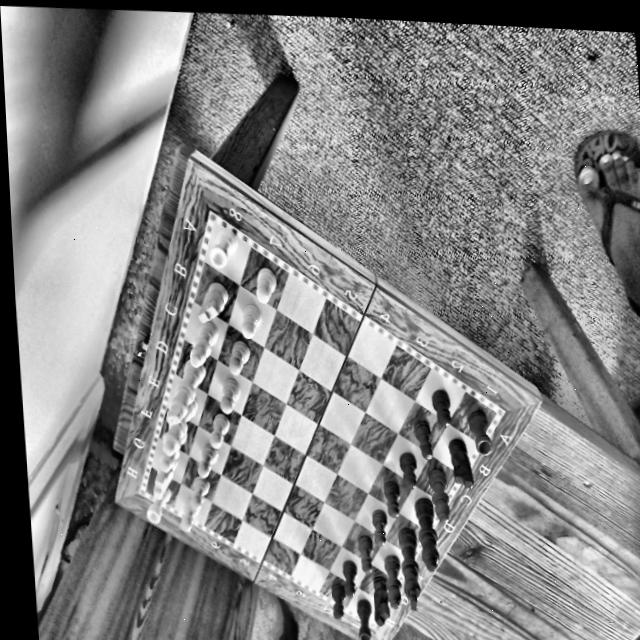black-bishop: (428, 466, 452, 524), (386, 554, 404, 612)
black-king: (398, 528, 422, 611)
black-knight: (449, 436, 474, 493), (370, 574, 390, 627)
black-pawn: (414, 421, 437, 462), (431, 389, 453, 428), (341, 557, 360, 598), (383, 480, 402, 519), (398, 452, 419, 487), (372, 508, 389, 549), (358, 534, 375, 575), (329, 582, 346, 622)
black-queen: (414, 498, 439, 574)
black-rook: (467, 407, 493, 462), (356, 598, 373, 640)
white-bishop: (183, 319, 221, 367), (154, 439, 183, 473)
white-king: (160, 355, 214, 425)
white-knight: (192, 276, 234, 326), (149, 463, 180, 500)
white-pawn: (225, 338, 256, 376), (216, 373, 245, 413), (205, 411, 234, 449), (253, 264, 280, 304), (237, 302, 265, 340), (195, 442, 224, 478), (178, 499, 201, 536), (188, 477, 214, 509)
white-queen: (153, 390, 202, 459)
white-rook: (207, 223, 238, 271), (144, 483, 174, 526)
